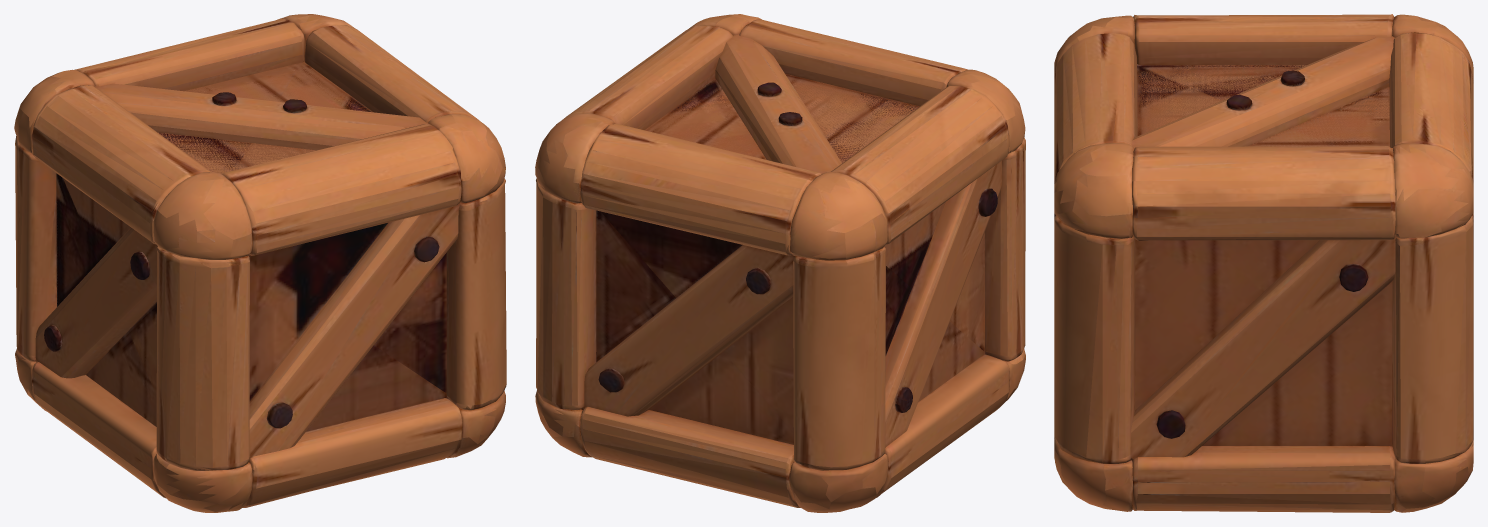
Rendered from la_caja.glb.
The picture shows the model from 3 angles, left to right: view 1: azimuth 30°, elevation 25°; view 2: azimuth 150°, elevation 25°; view 3: azimuth 270°, elevation 25°; orthographic projection. The views are drawn at different scales.
Bounding box in the file's own units: 1 × 0.9434 × 1.
Materials: 1 (1 with a texture image).
